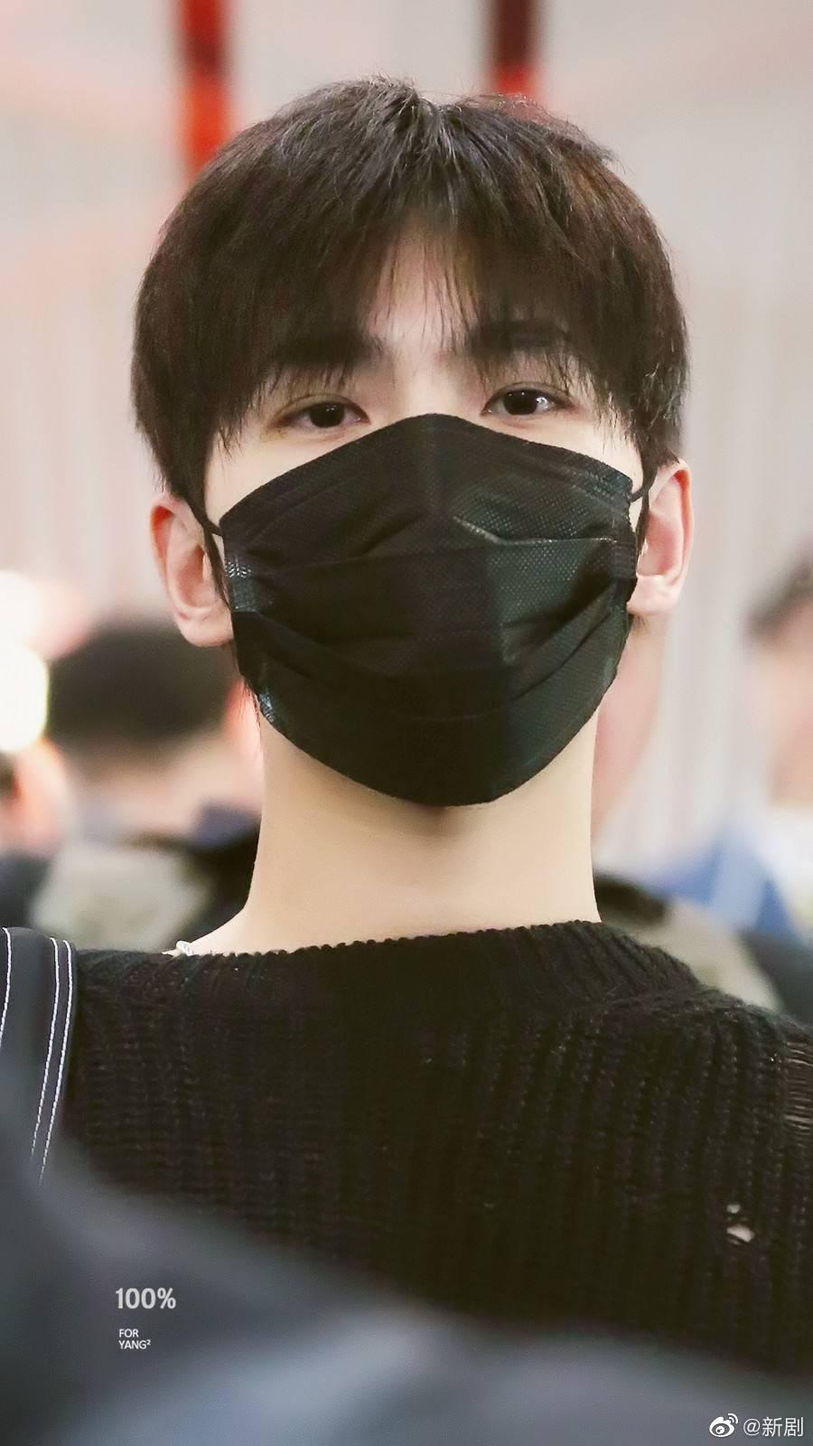OK: (213, 278, 633, 811)
